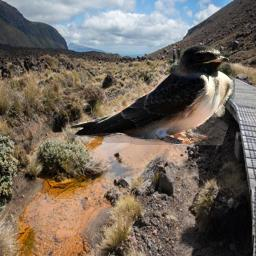Swallow: (66, 45, 235, 145)
